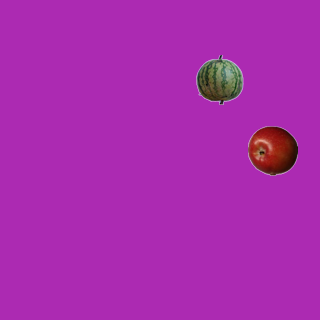Apple Braeburn: (247, 125, 297, 175)
Watermelon: (194, 54, 244, 104)
